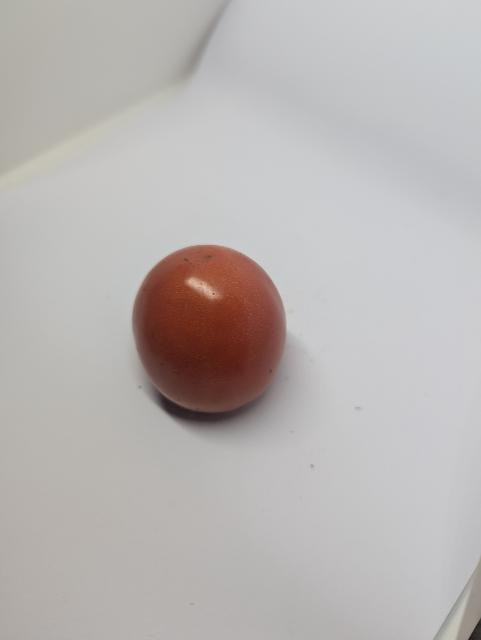red: (131, 241, 291, 425)
